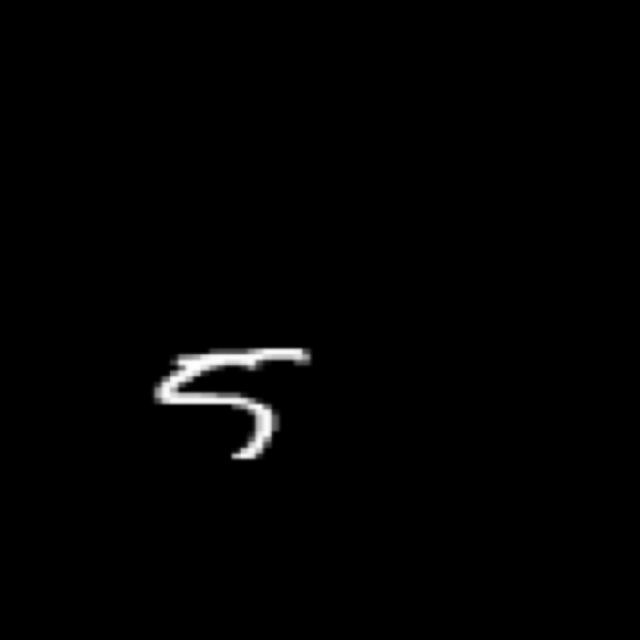five -5-: (142, 342, 320, 468)
